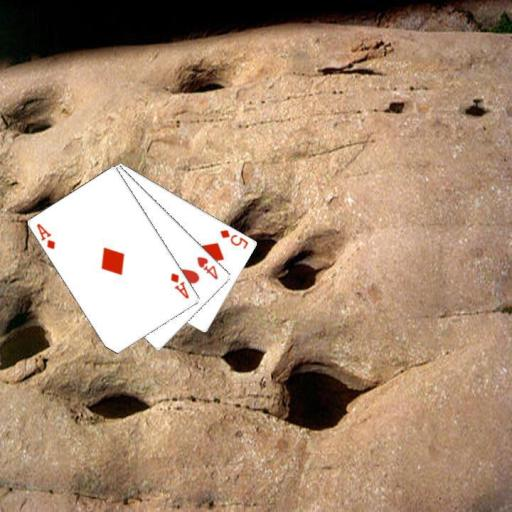4H: (194, 253, 220, 281)
5D: (217, 226, 250, 250)
AD: (33, 220, 57, 251), (168, 269, 191, 301)
